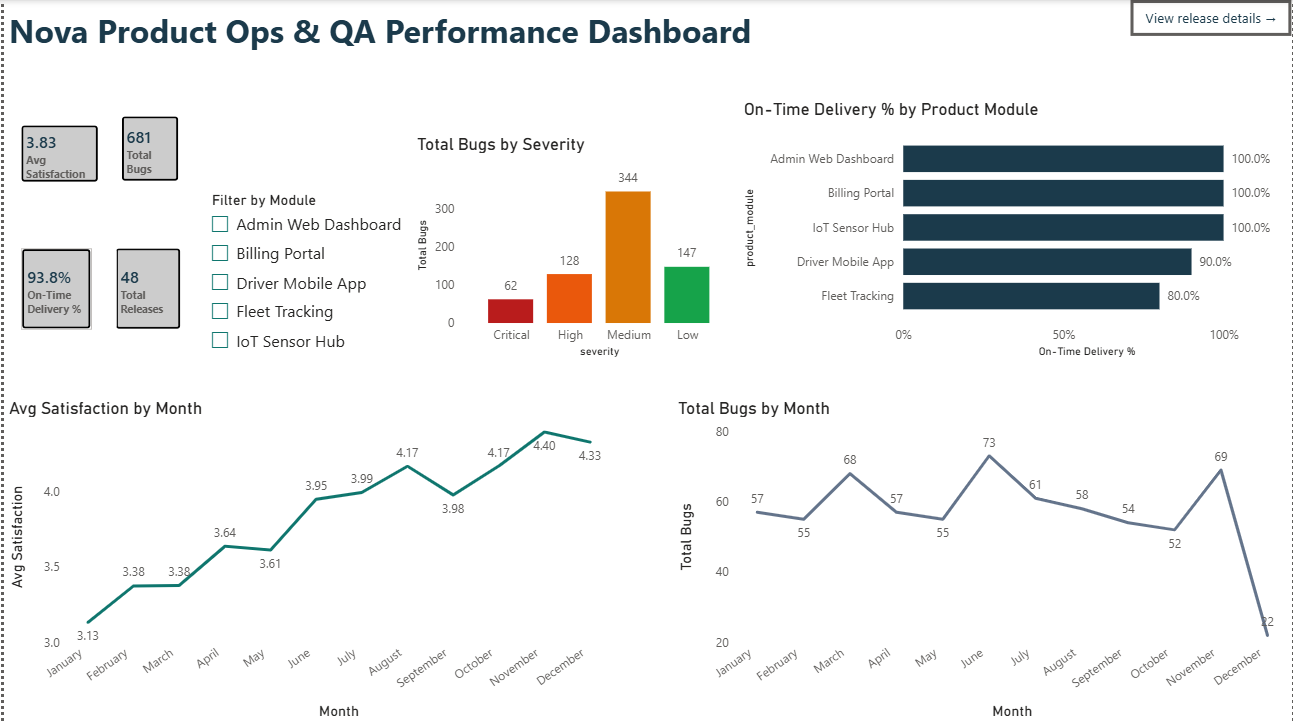

The dashboard page shown, as its layout file describes it:
{"tool":"powerbi","page":{"name":"Summary Page","canvas":[1280,720],"ordinal":0},"visuals":[{"type":"cardVisual","fields":{"Data":["releases.On-Time Delivery %"]},"box":[0,230,104.3,115.7],"z":0},{"type":"cardVisual","fields":{"Data":["releases.Total Releases"]},"box":[94.3,230,98.6,114.3],"z":1000},{"type":"cardVisual","fields":{"Data":["bugs.Total Bugs"]},"box":[100,98.6,90,98.6],"z":2000},{"type":"cardVisual","fields":{"Data":["feedback.Avg Satisfaction"]},"box":[0,107.1,110,90],"z":3000},{"type":"clusteredColumnChart","title":"Total Bugs by Severity","fields":{"Category":["bugs.severity"],"Y":["bugs.Total Bugs"]},"box":[405.7,132.9,325.7,227.1],"z":4000},{"type":"lineChart","fields":{"Category":["bugs.reported_date.Variation.Date Hierarchy.Year","bugs.reported_date.Variation.Date Hierarchy.Quarter","bugs.reported_date.Variation.Date Hierarchy.Month","bugs.reported_date.Variation.Date Hierarchy.Day"],"Y":["bugs.Total Bugs"]},"box":[665.7,395.7,614.3,324.3],"z":5000},{"type":"lineChart","fields":{"Category":["feedback.feedback_date.Variation.Date Hierarchy.Year","feedback.feedback_date.Variation.Date Hierarchy.Quarter","feedback.feedback_date.Variation.Date Hierarchy.Month","feedback.feedback_date.Variation.Date Hierarchy.Day"],"Y":["feedback.Avg Satisfaction"]},"box":[0,395.7,605.7,324.3],"z":6000},{"type":"clusteredBarChart","title":"On-Time Delivery % by Product Module","fields":{"Y":["releases.On-Time Delivery %"],"Category":["releases.product_module"]},"box":[731.4,98.6,548.6,261.4],"z":7000},{"type":"textbox","box":[0,2.9,754.3,68.6],"z":8000},{"type":"slicer","fields":{"Values":["releases.product_module"]},"box":[194.3,185.7,211.4,174.3],"z":9000},{"type":"actionButton","box":[1120,0,160,35.7],"z":10000}]}

Visuals, with their boxes in screenshot pixels (x1, y1, x2, y2), scaled from the page's 1280x720 canvas onto the 1293x724 screenshot:
cardVisual - releases.On-Time Delivery %: [left=0, top=231, right=105, bottom=348]
cardVisual - releases.Total Releases: [left=95, top=231, right=195, bottom=346]
cardVisual - bugs.Total Bugs: [left=101, top=99, right=192, bottom=198]
cardVisual - feedback.Avg Satisfaction: [left=0, top=108, right=111, bottom=198]
"Total Bugs by Severity" clusteredColumnChart: [left=410, top=134, right=739, bottom=362]
lineChart - bugs.reported_date.Variation.Date Hierarchy.Year x bugs.reported_date.Variation.Date Hierarchy.Quarter: [left=672, top=398, right=1292, bottom=723]
lineChart - feedback.feedback_date.Variation.Date Hierarchy.Year x feedback.feedback_date.Variation.Date Hierarchy.Quarter: [left=0, top=398, right=612, bottom=723]
"On-Time Delivery % by Product Module" clusteredBarChart: [left=739, top=99, right=1292, bottom=362]
textbox: [left=0, top=3, right=762, bottom=72]
slicer - releases.product_module: [left=196, top=187, right=410, bottom=362]
actionButton: [left=1131, top=0, right=1292, bottom=36]
